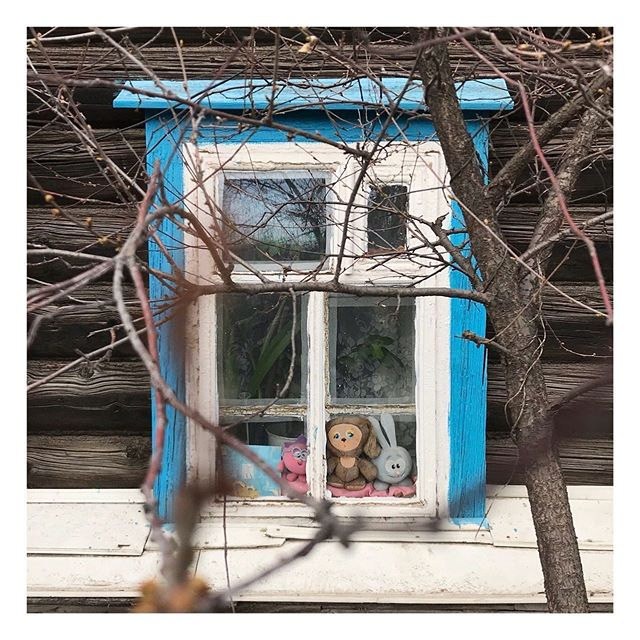stuffed animal: (307, 412, 381, 496), (372, 426, 417, 498)
vegetation: (1, 1, 610, 608)
window: (195, 149, 438, 515)
